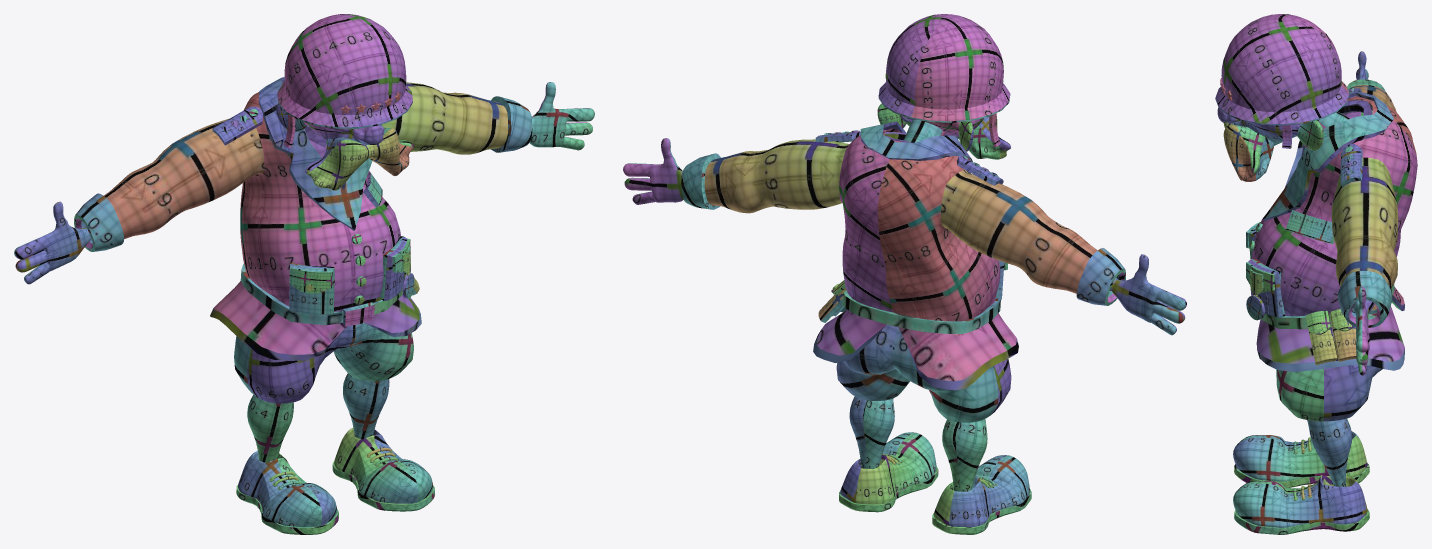
Rendered from General_UV_1.fbx.
The picture shows the model from 3 angles, left to right: view 1: azimuth 30°, elevation 25°; view 2: azimuth 150°, elevation 25°; view 3: azimuth 270°, elevation 25°; orthographic projection. The views are drawn at different scales.
Visible parts, largest first — view 1: pCube27, pCube24, pCube14, polySurface6, pCube26, polySurface2, polySurface24, polySurface23, pCube21, pCube15, polySurface1; view 2: pCube27, pCube24, pCube14, pCube26, polySurface6, polySurface24, pCube21, pCube15, polySurface23, polySurface1, polySurface2; view 3: pCube27, pCube24, polySurface6, pCube26, pCube14, polySurface2, pCube15, polySurface1, polySurface23, polySurface22, polySurface24, pCube23.
Part boxes in pixels (box(x1,y1,x2,y2)): pCube27: box(74, 77, 532, 360); pCube24: box(277, 14, 412, 147); pCube14: box(234, 323, 413, 403); polySurface6: box(332, 428, 434, 511); pCube26: box(236, 450, 338, 534); polySurface2: box(305, 127, 413, 190); polySurface24: box(14, 201, 91, 284); polySurface23: box(529, 82, 594, 150); pCube21: box(247, 395, 293, 462); pCube15: box(343, 373, 389, 439); polySurface1: box(276, 103, 384, 144); pCube27: box(681, 121, 1125, 390); pCube24: box(878, 14, 1010, 146); pCube14: box(836, 324, 1011, 422); pCube26: box(932, 455, 1031, 534); polySurface6: box(839, 432, 938, 512); polySurface24: box(1110, 254, 1186, 335); pCube21: box(942, 419, 987, 491); pCube15: box(849, 396, 894, 468); polySurface23: box(623, 138, 683, 204); polySurface1: box(877, 103, 983, 151); polySurface2: box(906, 116, 1010, 159); pCube27: box(1246, 79, 1417, 371); pCube24: box(1215, 14, 1349, 148); polySurface6: box(1233, 475, 1369, 534); pCube26: box(1233, 431, 1369, 487); pCube14: box(1276, 365, 1382, 421); polySurface2: box(1223, 122, 1274, 181); pCube15: box(1307, 418, 1352, 486); polySurface1: box(1217, 107, 1323, 150); polySurface23: box(1352, 286, 1374, 375); polySurface22: box(1301, 100, 1372, 155); polySurface24: box(1356, 51, 1372, 110); pCube23: box(1318, 111, 1349, 128).
Bounding box in the file's own units: 108 × 86.88 × 33.4.
Materials: 3 (3 with a texture image).
